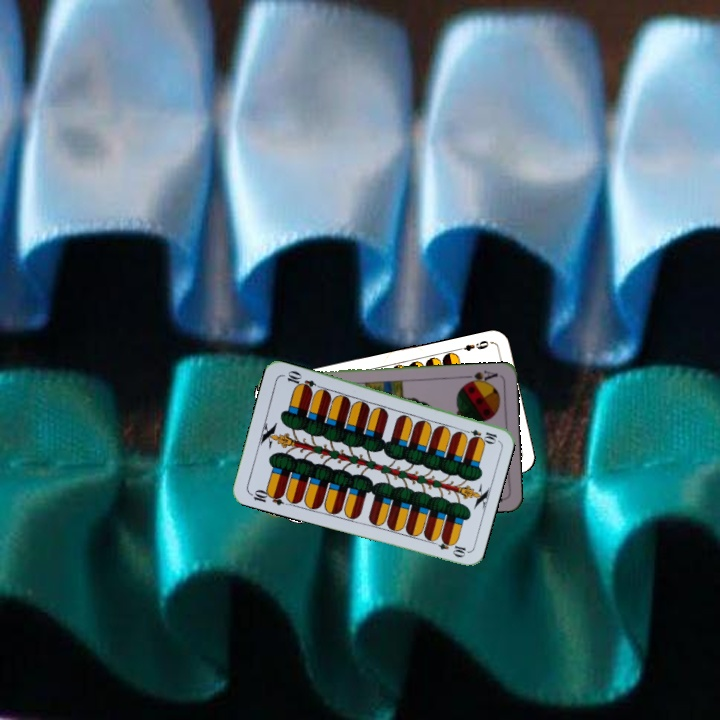E10: (246, 485, 286, 508), (459, 425, 499, 444)
E9: (453, 336, 491, 354)
SA: (460, 366, 500, 387)
